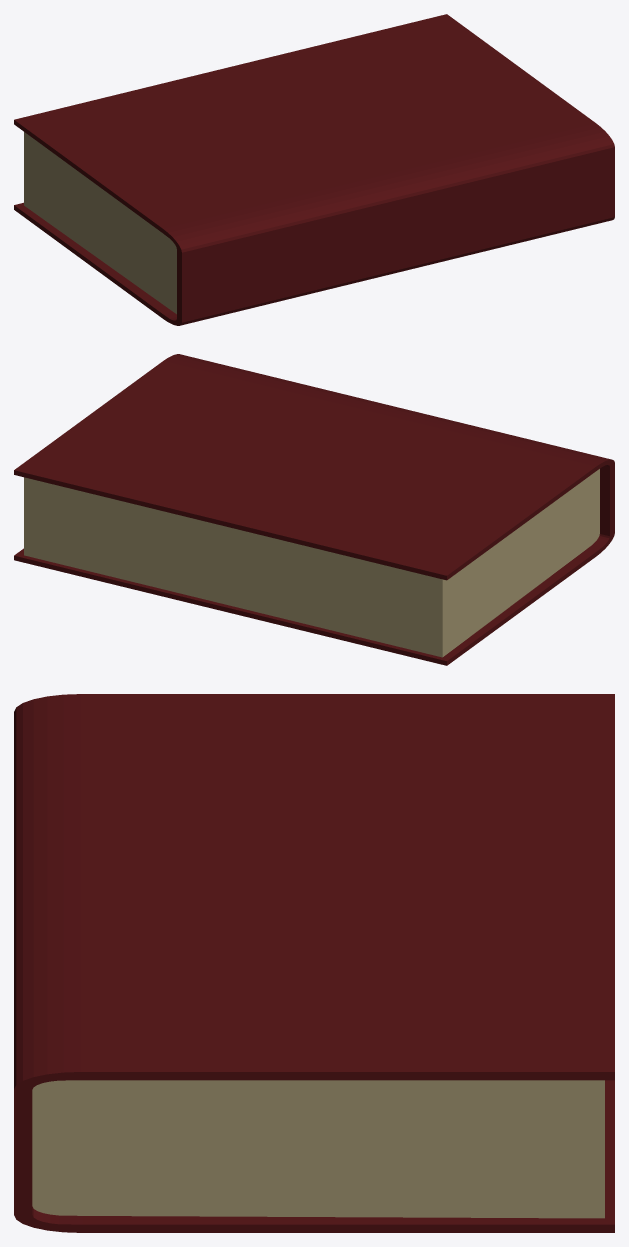
The model's file is Book.fbx.
3 renders of one model, top to bottom at view 1: azimuth 30°, elevation 25°; view 2: azimuth 150°, elevation 25°; view 3: azimuth 270°, elevation 25°, orthographic. The views are drawn at different scales.
Parts seen in each view (by area): view 1: Cube; view 2: Cube; view 3: Cube.
Part boxes in pixels (<box>): Cube: <box>14,14,614,325</box>; Cube: <box>14,354,614,665</box>; Cube: <box>14,694,614,1232</box>.
Bounding box in the file's own units: 143 × 28.36 × 95.92.
